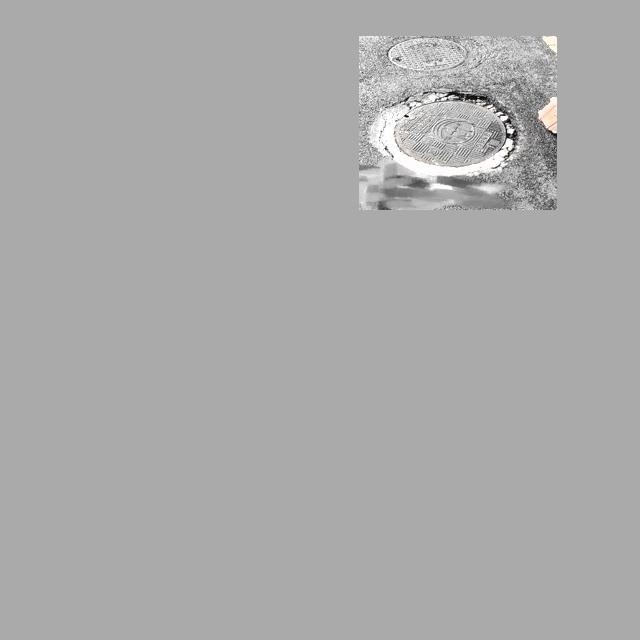circle: (371, 91, 517, 179)
good: (385, 37, 469, 71)
